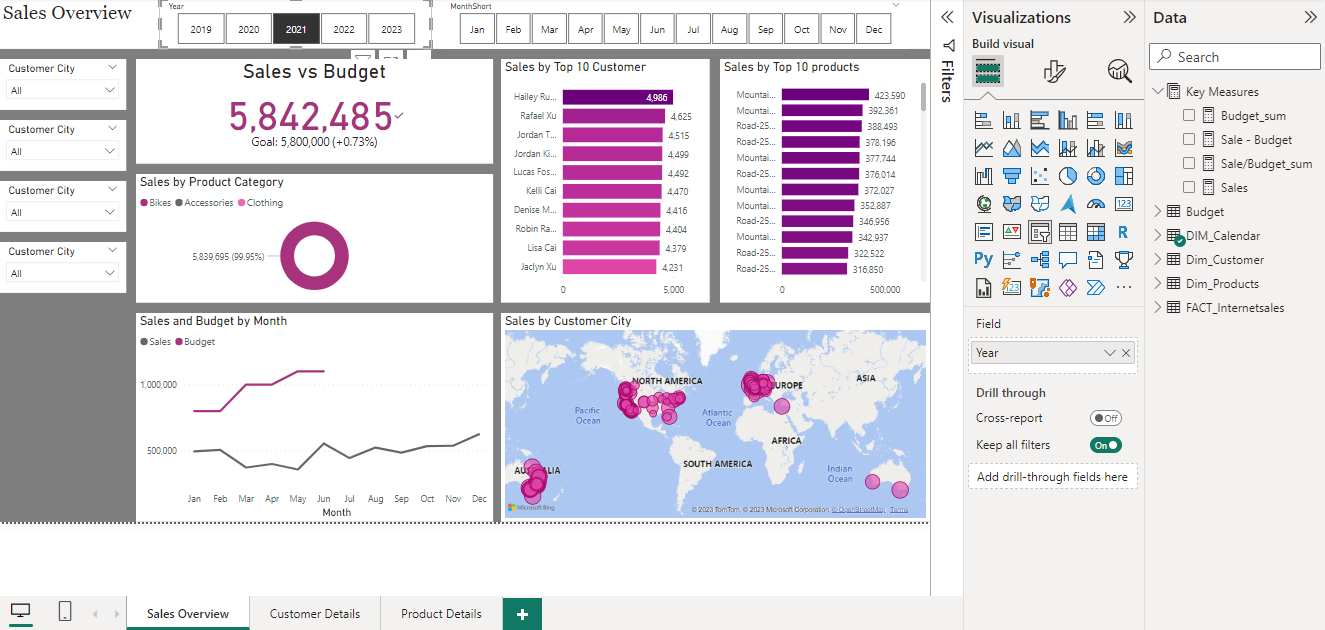

This screenshot's page, from the dashboard's own definition file:
{"tool":"powerbi","page":{"name":"Sales Overview","canvas":[1280,720],"ordinal":0},"visuals":[{"type":"textbox","box":[0,0,1280,70.2],"z":0},{"type":"slicer","fields":{"Values":["DIM_Calendar.Year"]},"box":[220.2,0,375.7,70.2],"z":1000},{"type":"slicer","fields":{"Values":["DIM_Calendar.MonthShort"]},"box":[608.3,0,642.8,70.2],"z":2000},{"type":"slicer","fields":{"Values":["Dim_Customer.Customer City"]},"box":[0,84,174.8,70.2],"z":3000},{"type":"slicer","fields":{"Values":["Dim_Customer.Customer City"]},"box":[0,167.9,174.8,70.2],"z":4000},{"type":"slicer","fields":{"Values":["Dim_Customer.Customer City"]},"box":[0,251.9,174.8,70.2],"z":5000},{"type":"slicer","fields":{"Values":["Dim_Customer.Customer City"]},"box":[0,335.8,174.8,70.2],"z":6000},{"type":"kpi","title":"Sales vs Budget","fields":{"Goal":["Key Measures.Budget_sum"],"Indicator":["Key Measures.Sales"],"TrendLine":["DIM_Calendar.Year"]},"box":[188.4,83.9,490.8,144.4],"z":7000},{"type":"donutChart","fields":{"Category":["Dim_Products.Product Category"],"Y":["Key Measures.Sales"]},"box":[188.4,242,490.8,177.4],"z":8000},{"type":"lineChart","title":"Sales and Budget by Month","fields":{"Y":["Key Measures.Sales","Budget.Budget"],"Category":["DIM_Calendar.MonthShort"]},"box":[188.4,433.1,490.8,287.3],"z":9000},{"type":"barChart","title":" Sales by Top 10 Customer","fields":{"Y":["Key Measures.Sales"],"Category":["Dim_Customer.Full Name"]},"box":[690.2,83.9,287.3,335.5],"z":10000},{"type":"barChart","title":" Sales by Top 10 products","fields":{"Y":["Key Measures.Sales"],"Category":["Dim_Products.Product Name"]},"box":[991.3,83.9,288.7,335.5],"z":11000},{"type":"map","fields":{"Category":["Dim_Customer.Customer City"],"Size":["Key Measures.Sales"]},"box":[690.2,433.1,589.8,287.3],"z":12000}]}

Visuals, with their boxes on the page's 1280x720 design canvas (x1, y1, x2, y2). These are canvas units, not pixel positions in the 1325x630 screenshot, which may show the page scaled, cropped or inside an application window:
textbox: {"left": 0, "top": 0, "right": 1280, "bottom": 70}
slicer - DIM_Calendar.Year: {"left": 220, "top": 0, "right": 596, "bottom": 70}
slicer - DIM_Calendar.MonthShort: {"left": 608, "top": 0, "right": 1251, "bottom": 70}
slicer - Dim_Customer.Customer City: {"left": 0, "top": 84, "right": 175, "bottom": 154}
slicer - Dim_Customer.Customer City: {"left": 0, "top": 168, "right": 175, "bottom": 238}
slicer - Dim_Customer.Customer City: {"left": 0, "top": 252, "right": 175, "bottom": 322}
slicer - Dim_Customer.Customer City: {"left": 0, "top": 336, "right": 175, "bottom": 406}
"Sales vs Budget" kpi: {"left": 188, "top": 84, "right": 679, "bottom": 228}
donutChart - Dim_Products.Product Category x Key Measures.Sales: {"left": 188, "top": 242, "right": 679, "bottom": 419}
"Sales and Budget by Month" lineChart: {"left": 188, "top": 433, "right": 679, "bottom": 720}
" Sales by Top 10 Customer" barChart: {"left": 690, "top": 84, "right": 978, "bottom": 419}
" Sales by Top 10 products" barChart: {"left": 991, "top": 84, "right": 1280, "bottom": 419}
map - Dim_Customer.Customer City x Key Measures.Sales: {"left": 690, "top": 433, "right": 1280, "bottom": 720}
